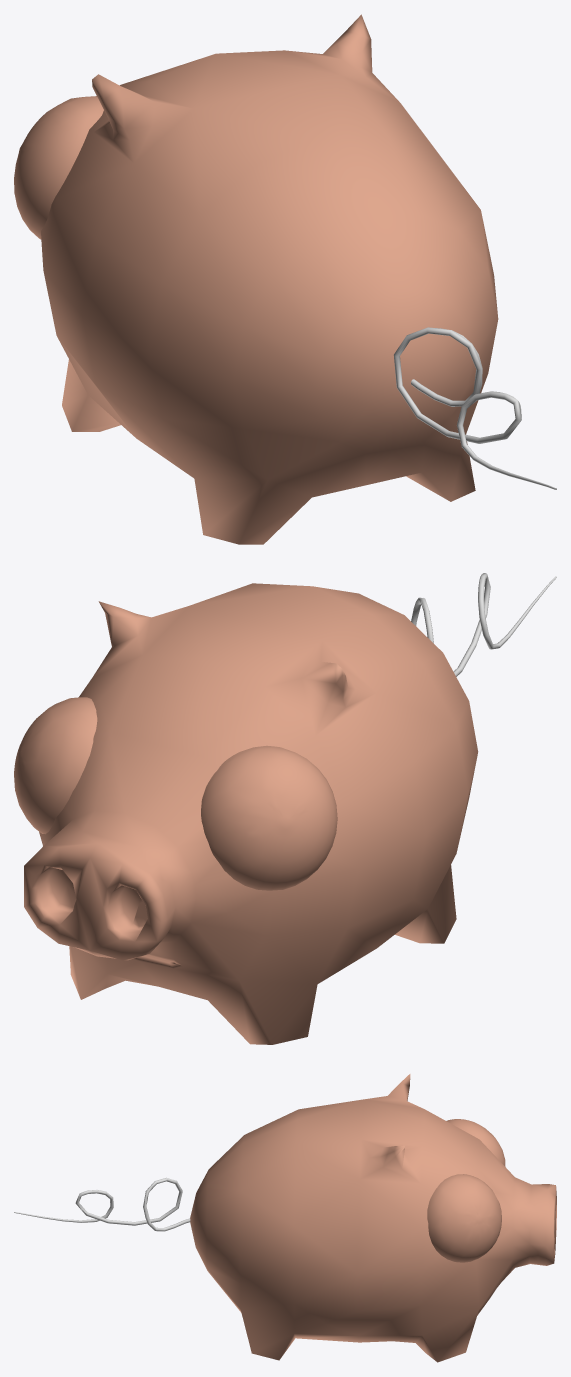
The model's file is plushpig.fbx.
3 renders of one model, top to bottom at view 1: azimuth 30°, elevation 25°; view 2: azimuth 150°, elevation 25°; view 3: azimuth 270°, elevation 25°, orthographic. The views are drawn at different scales.
Visible parts, largest first — view 1: pig.001; view 2: pig.001; view 3: pig.001.
Part boxes in pixels (x1,y1,x2,y2): pig.001: (14, 14, 556, 544); pig.001: (14, 573, 556, 1044); pig.001: (14, 1074, 556, 1362).
Size of the model in its own units: 0.2601 by 0.2607 by 0.5823.
